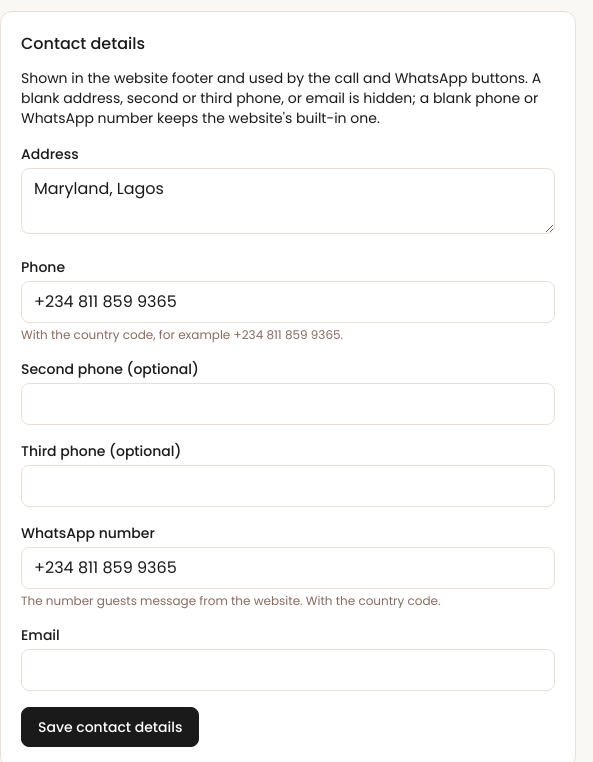
website lists › a refused save says why in plain words
(page scrolled)
Click the button "Save contact details" at (110, 727), box [21,707,199,747]
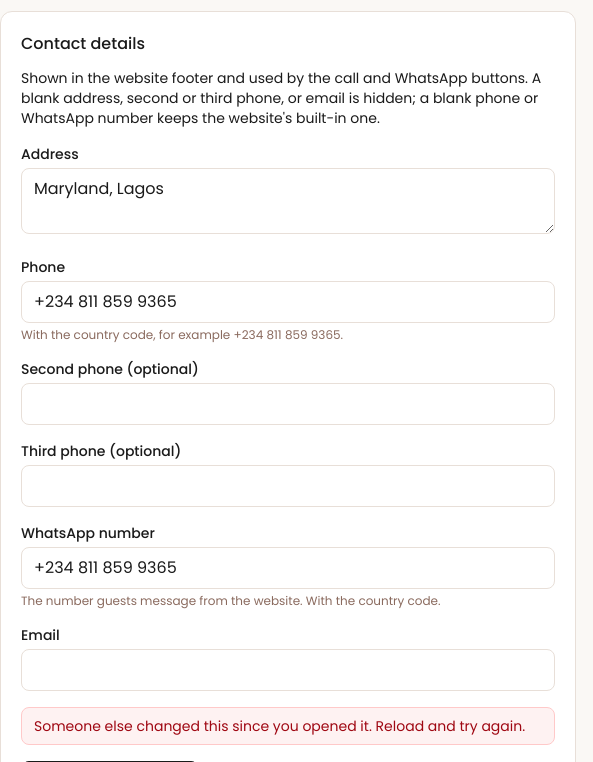
Now the message shows "Someone else changed this", box [34,716,525,736]
